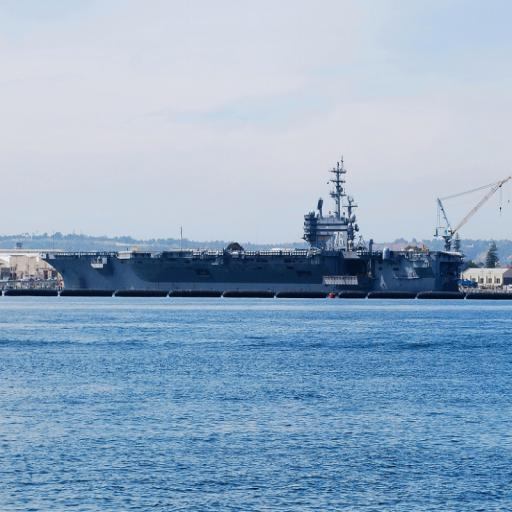Portanaves: (37, 147, 467, 300)
